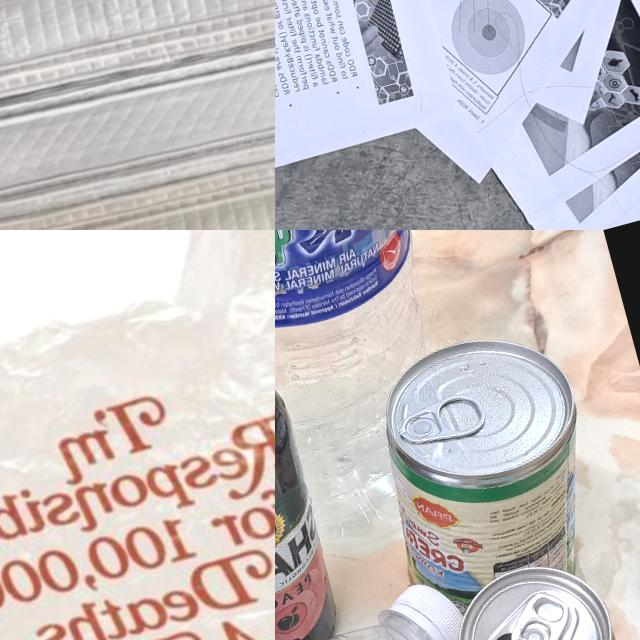aba de lata: (394, 392, 484, 451), (500, 583, 581, 640)
garrafa de vidro: (275, 230, 355, 640)
garrafa plástica: (275, 230, 500, 570)
lata: (352, 318, 622, 626), (397, 546, 640, 640)
papel: (275, 0, 640, 230), (0, 0, 275, 230)
sacola plástica: (0, 230, 275, 640)
tampa plástica: (388, 572, 475, 640)
